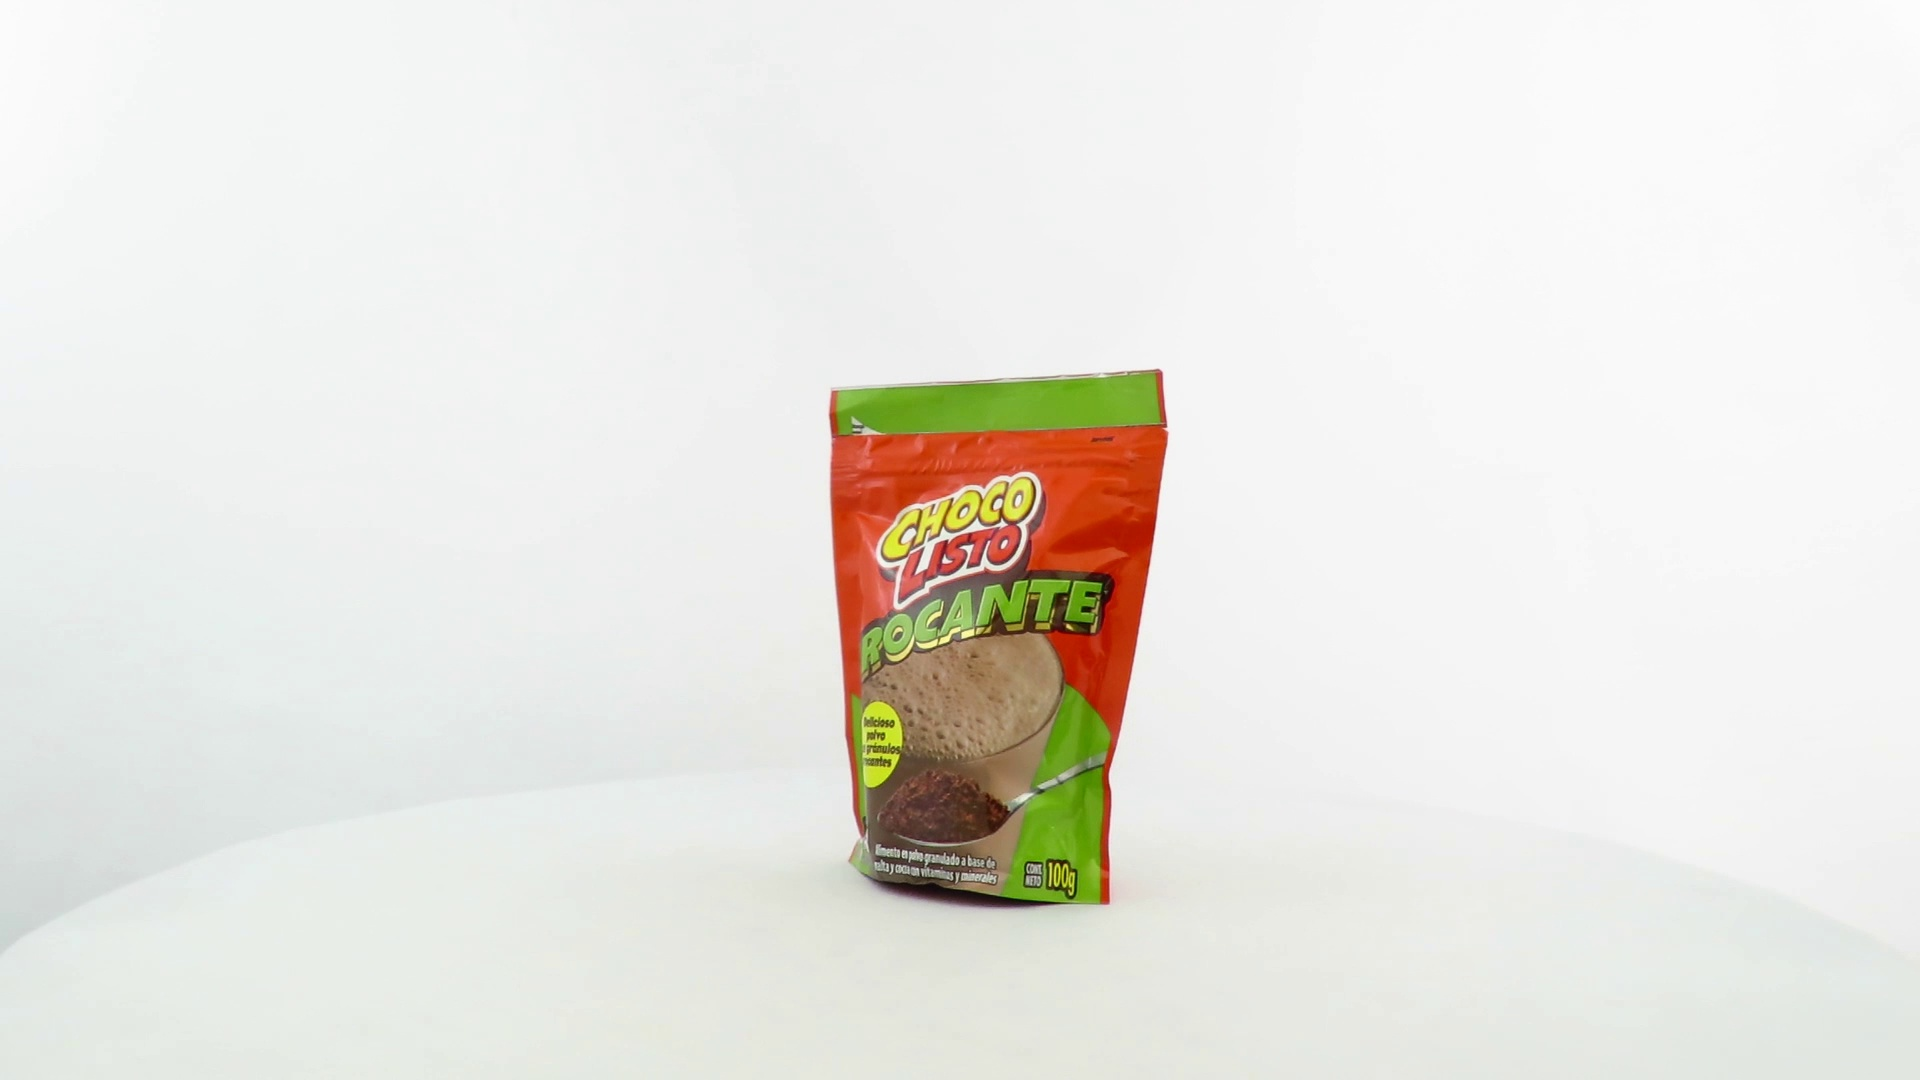COL0170102DYP10000: (824, 364, 1175, 914)
